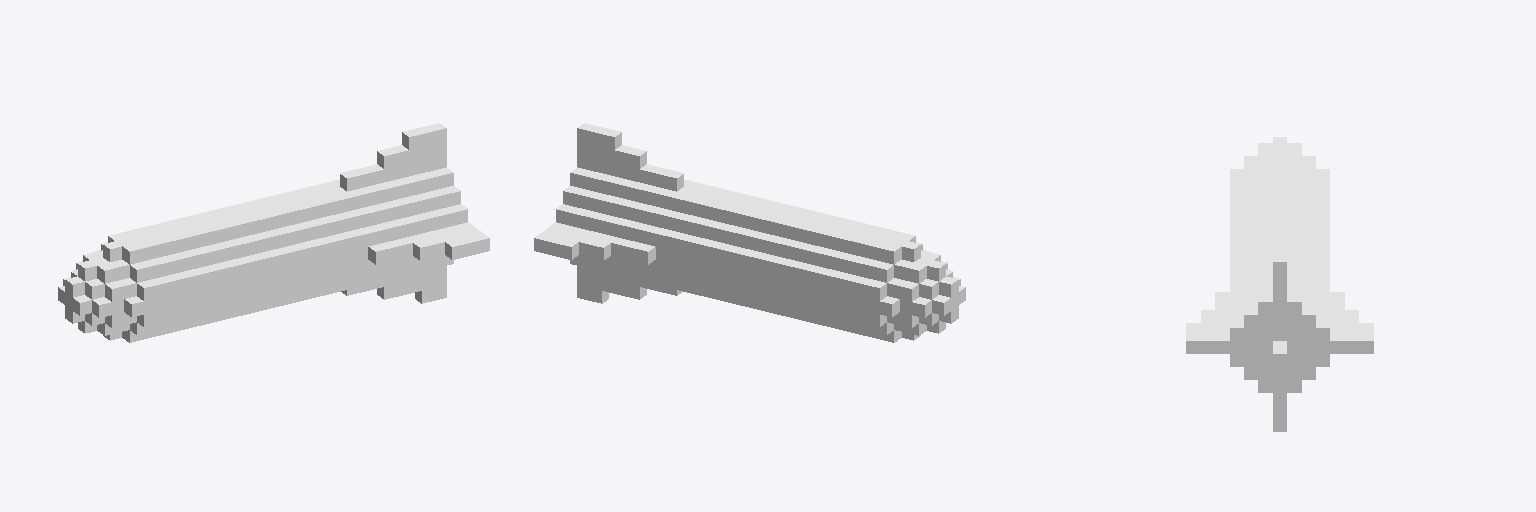
File: missale.obj
3 renders of one model, left to right at view 1: azimuth 30°, elevation 25°; view 2: azimuth 150°, elevation 25°; view 3: azimuth 270°, elevation 25°, orthographic.
Parts seen in each view (by area): view 1: missale; view 2: missale; view 3: missale.
Part boxes in pixels (x1,y1,x2,y2): missale: (58, 123, 489, 342); missale: (534, 123, 965, 342); missale: (1186, 137, 1373, 431).
Bounding box in the file's own units: 30 × 13 × 13.